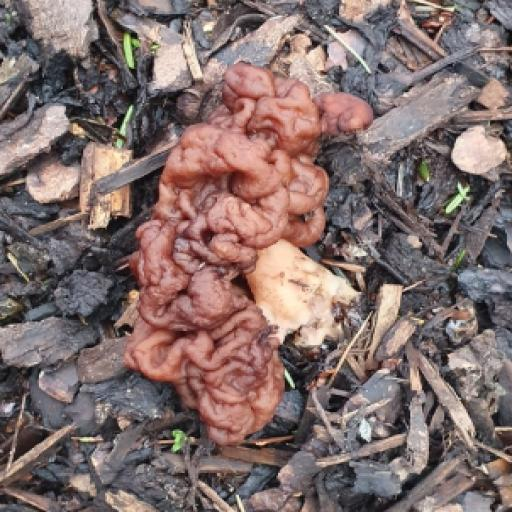mushroom: (85, 44, 414, 463)
